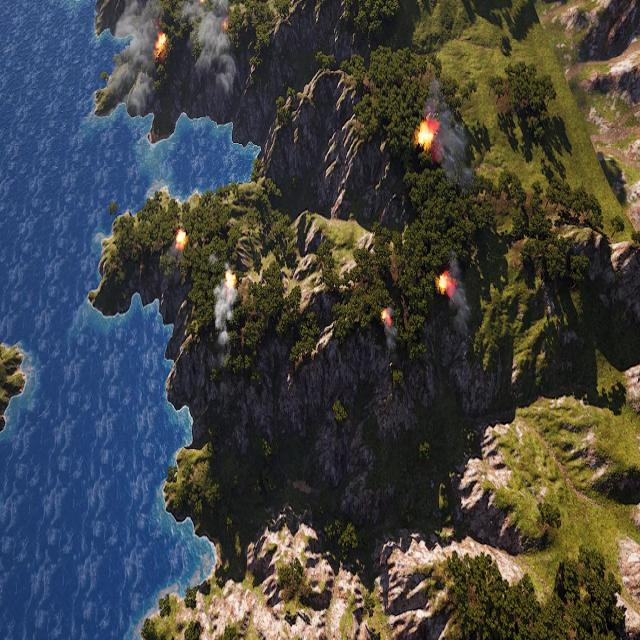fire: (416, 120, 437, 151), (153, 30, 166, 58), (438, 274, 453, 296), (175, 230, 188, 248), (381, 308, 392, 328), (224, 271, 236, 289)
smoke: (112, 0, 243, 106), (424, 79, 473, 194), (113, 0, 162, 113), (184, 1, 242, 96), (441, 256, 472, 351), (207, 283, 237, 369)
